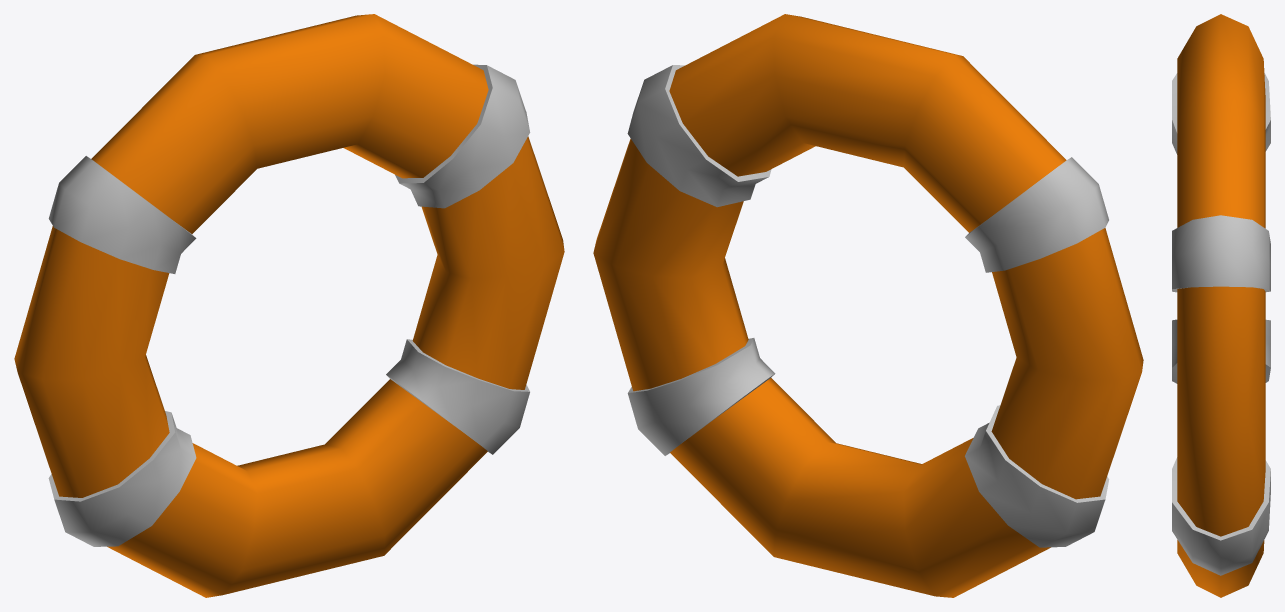
File: life_preserver_ring_low.fbx
3 renders of one model, left to right at view 1: azimuth 30°, elevation 25°; view 2: azimuth 150°, elevation 25°; view 3: azimuth 270°, elevation 25°, orthographic. The views are drawn at different scales.
Visible parts, largest first — view 1: life_preserver_ring_low; view 2: life_preserver_ring_low; view 3: life_preserver_ring_low.
Boxes of the visible parts, <box> form: life_preserver_ring_low: <box>14,14,564,597</box>; life_preserver_ring_low: <box>593,14,1143,597</box>; life_preserver_ring_low: <box>1172,14,1270,597</box>.
Bounding box in the file's own units: 90 × 85.6 × 15.14.
